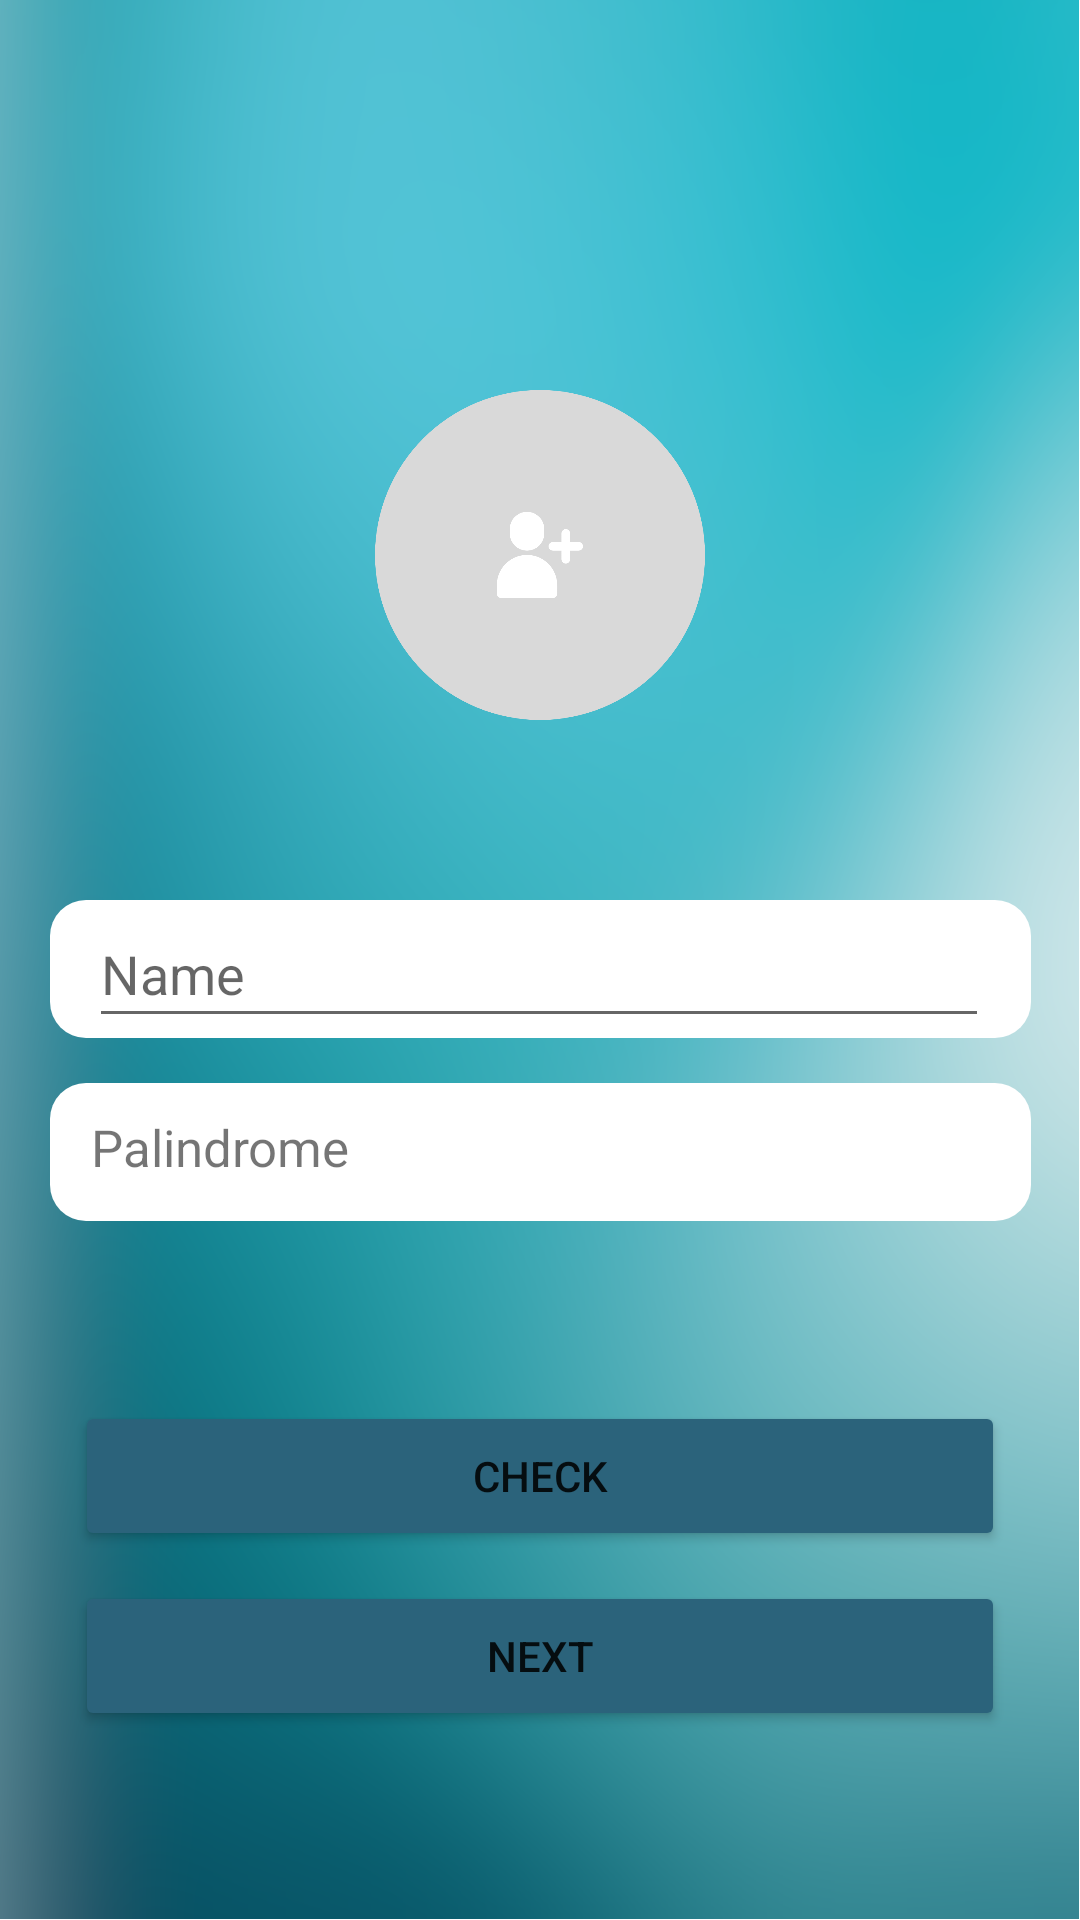

Screen size 1080px x 1920px. Icon name, then its box in pixels as (x1, y1, x2, y2):
add: (375, 390, 705, 720)
